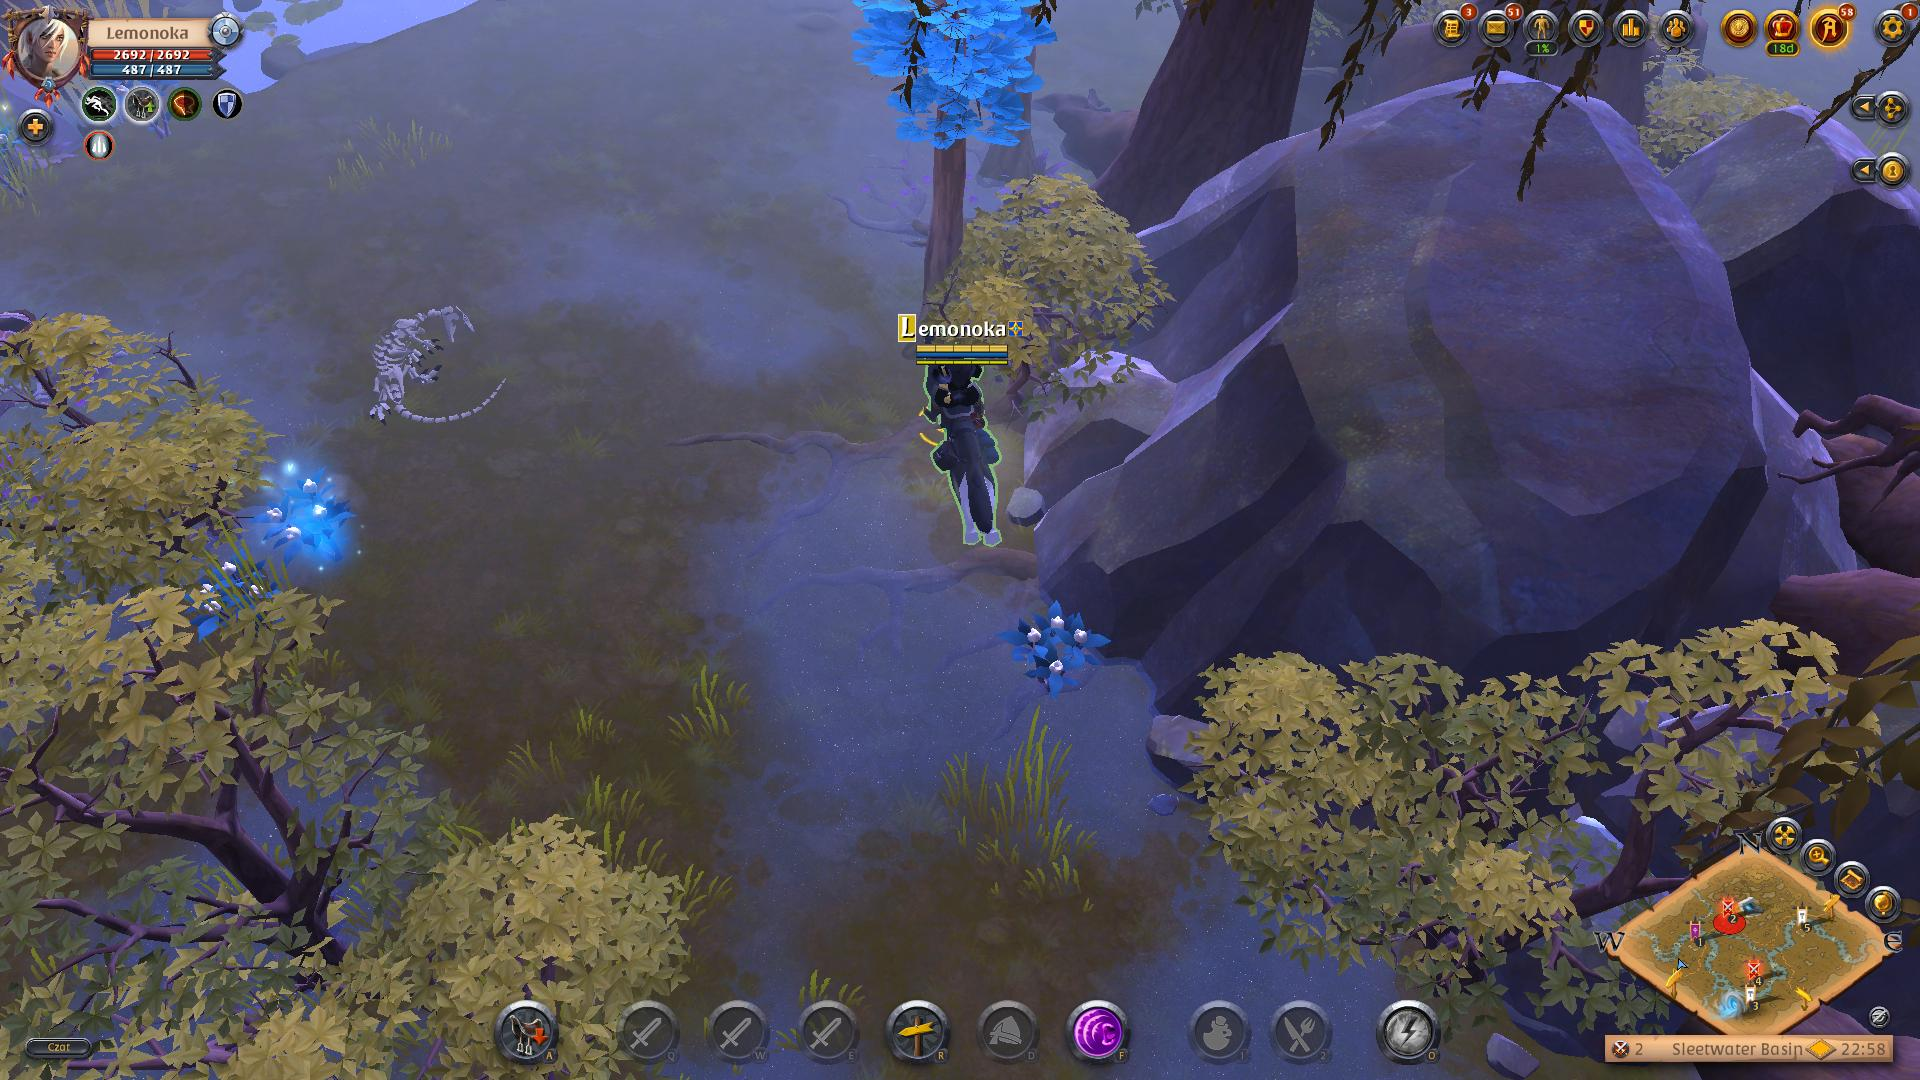fiber tier 4: (252, 467, 355, 575), (1009, 599, 1110, 696)
